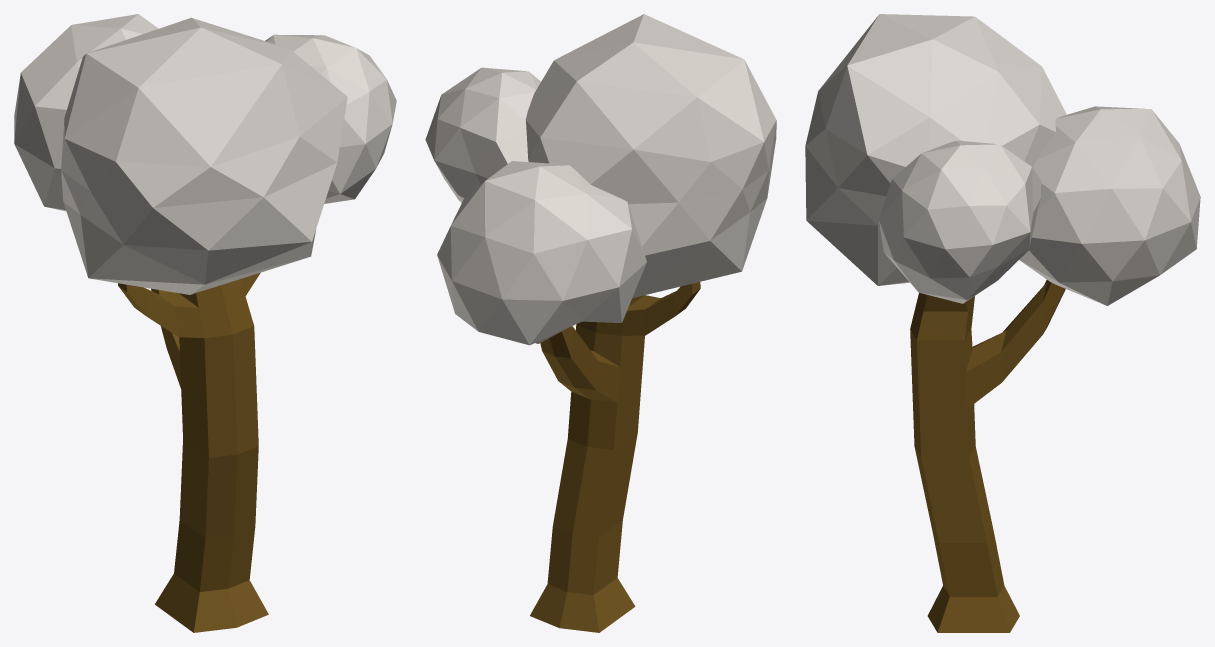
The model's file is snow_tree_5.fbx.
The picture shows the model from 3 angles, left to right: view 1: azimuth 30°, elevation 25°; view 2: azimuth 150°, elevation 25°; view 3: azimuth 270°, elevation 25°; orthographic projection. The views are drawn at different scales.
Visible parts, largest first — view 1: Icosphere.269; view 2: Icosphere.269; view 3: Icosphere.269.
Part boxes in pixels (left/top/right/bottom): Icosphere.269: left=14, top=14, right=396, bottom=632; Icosphere.269: left=425, top=14, right=776, bottom=632; Icosphere.269: left=805, top=14, right=1200, bottom=632.
Size of the model in its own units: 1192 by 2023 by 1290.
